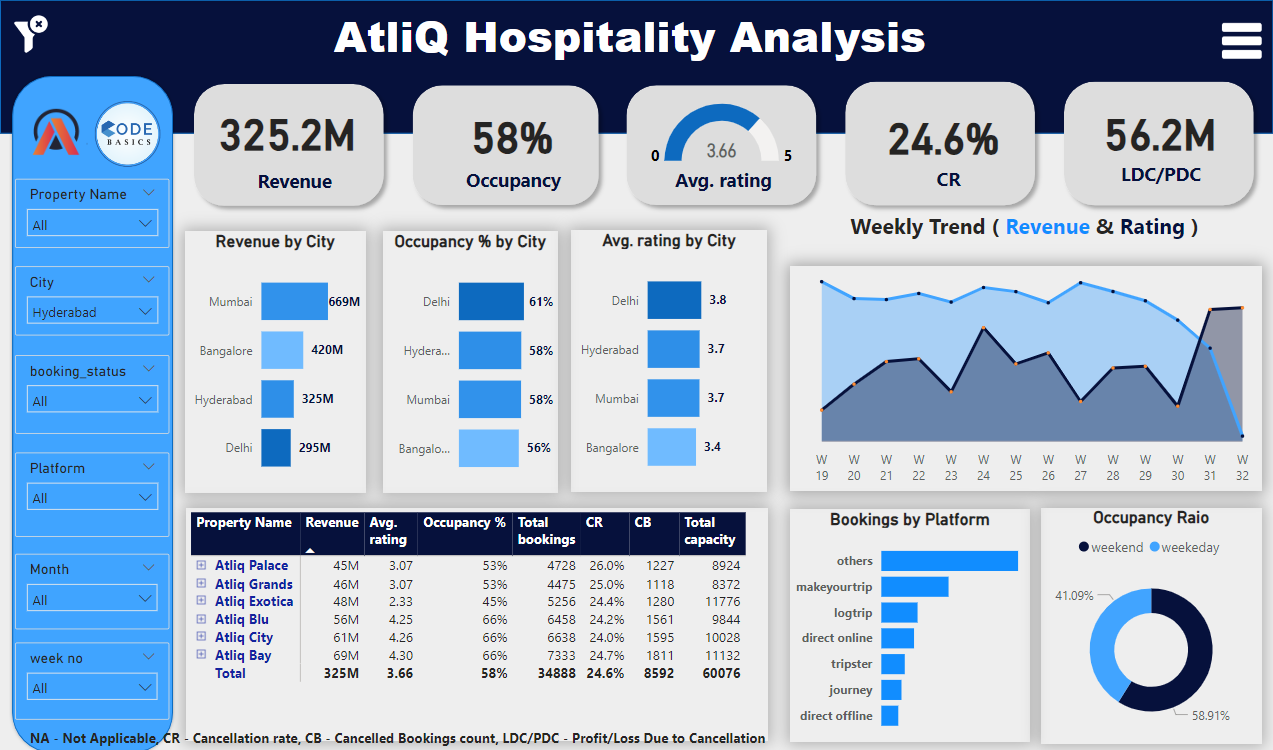

What the dashboard file says about the page in this screenshot:
{"tool":"powerbi","page":{"name":"Overall","canvas":[1280,760],"ordinal":0},"visuals":[{"type":"shape","box":[0,0,1280,134.4],"z":0},{"type":"textbox","box":[0,0,1280.6,79.1],"z":0,"group":"g1"},{"type":"group","id":"g1","title":"visuals","box":[0,0,1280.5,760.3],"z":1000},{"type":"shape","box":[1060.5,73.2,208.7,142.5],"z":1000,"group":"g1"},{"type":"shape","box":[840.9,73.2,208.7,142.5],"z":2000,"group":"g1"},{"type":"textbox","box":[443.5,163.2,145.1,44.5],"z":2000},{"type":"shape","box":[621.3,77.2,208.7,138.5],"z":3000,"group":"g1"},{"type":"textbox","box":[880.3,161.6,145.1,44.5],"z":3000},{"type":"shape","box":[405.5,77.2,204.9,138.5],"z":4000,"group":"g1"},{"type":"textbox","box":[1094.7,156.6,145.1,44.5],"z":4000},{"type":"textbox","box":[224.2,164.9,145.1,39.6],"z":5000},{"type":"clusteredBarChart","title":"Revenue by City","fields":{"Category":["dim_hotels.city"],"Y":["resource_measures.revenue"]},"box":[186.3,232.1,181.3,263],"z":5000,"group":"g1"},{"type":"card","fields":{"Values":["resource_measures.Occupancy %"]},"box":[455.3,100.9,119.5,67.3],"z":6000,"group":"g1"},{"type":"textbox","box":[654.5,163.2,145.1,44.5],"z":6000},{"type":"textbox","box":[802.3,207.8,456.5,48.5],"z":6500},{"type":"textbox","box":[24.7,727,1063.3,33],"z":6750},{"type":"clusteredBarChart","title":"Occupancy % by City","fields":{"Category":["dim_hotels.city"],"Y":["resource_measures.Occupancy %"]},"box":[384.9,232.6,176.7,263.6],"z":7000,"group":"g1"},{"type":"gauge","fields":{"MaxValue":["resource_measures.max.rating"],"MinValue":["resource_measures.min.rating"],"Y":["resource_measures.avg.rating mod"]},"box":[644.2,91.3,161.9,87.9],"z":8000,"group":"g1"},{"type":"clusteredBarChart","title":"Avg. rating by City","fields":{"Category":["dim_hotels.city"],"Y":["resource_measures.Avg. rating"]},"box":[574.8,230.8,196.6,263.6],"z":9000,"group":"g1"},{"type":"image","box":[7.6,4.5,47,57.6],"z":10000},{"type":"donutChart","title":"Occupancy Raio","fields":{"Category":["dim_date.day_type"],"Y":["resource_measures.Occupancy %"]},"box":[1047.3,509.9,221.3,237.7],"z":10000,"group":"g1"},{"type":"areaChart","title":"Weekly Trend (Revenue & Rating)","fields":{"Category":["dim_date.week no"],"Y2":["resource_measures.Avg. rating"],"Y":["resource_measures.revenue"]},"box":[794.7,267.8,474.1,226.6],"z":11000,"group":"g1"},{"type":"clusteredBarChart","title":"Bookings by Platform","fields":{"Category":["fact_bookings.booking_platform"],"Y":["resource_measures.Total bookings"]},"box":[794.5,511.6,241.2,234.3],"z":12000,"group":"g1"},{"type":"pivotTable","fields":{"Rows":["dim_hotels.property_name","dim_hotels.city"],"Values":["resource_measures.revenue","resource_measures.Avg. rating","resource_measures.Occupancy %","resource_measures.Total bookings","resource_measures.CR","resource_measures.Total cancelled bookings","resource_measures.Total capacity"]},"box":[186.7,509.9,584.7,234.3],"z":13000,"group":"g1"},{"type":"shape","box":[8.3,72.4,168.5,687.3],"z":14000,"group":"g1"},{"type":"slicer","fields":{"Values":["dim_date.week no"]},"box":[14.9,646,155.3,77.5],"z":15000,"group":"g1"},{"type":"slicer","fields":{"Values":["dim_date.mmm yy.Variation.Date Hierarchy.Month"]},"box":[14.9,556.4,155.3,75.8],"z":16000,"group":"g1"},{"type":"slicer","fields":{"Values":["fact_bookings.booking_platform"]},"box":[15.2,455.4,155.6,85.1],"z":17000,"group":"g1"},{"type":"slicer","fields":{"Values":["fact_bookings.booking_status"]},"box":[15.2,356.8,155.6,79.1],"z":18000,"group":"g1"},{"type":"slicer","fields":{"Values":["dim_hotels.city"]},"box":[15.2,268.2,155.6,69.2],"z":19000,"group":"g1"},{"type":"slicer","fields":{"Values":["dim_hotels.property_name"]},"box":[15.2,179.6,155.6,69.2],"z":20000,"group":"g1"},{"type":"card","fields":{"Values":["resource_measures.LDC"]},"box":[1090.8,91.3,150.3,77.5],"z":21000,"group":"g1"},{"type":"card","fields":{"Values":["resource_measures.CR"]},"box":[870.8,81.1,155.6,106.8],"z":22000,"group":"g1"},{"type":"shape","box":[185.9,75.2,208.7,140.5],"z":23000,"group":"g1"},{"type":"card","fields":{"Values":["resource_measures.revenue"]},"box":[207.1,91.3,163.5,77.5],"z":24000,"group":"g1"},{"type":"image","title":"atliq","box":[15.2,94.5,77.8,77.2],"z":25000,"group":"g1"},{"type":"image","title":"codebasics","box":[85.4,94.5,85.4,81.1],"z":26000,"group":"g1"},{"type":"image","title":"three dot menu","box":[1216.1,15.8,64.5,49.5],"z":27000,"group":"g1"}]}

Visuals, with their boxes in screenshot pixels (x1, y1, x2, y2), scaled from the page's 1280x760 canvas onto the 1273x750 screenshot:
shape: region(0, 0, 1272, 133)
textbox: region(0, 0, 1272, 78)
"visuals" group: region(0, 0, 1272, 749)
shape: region(1055, 72, 1262, 213)
shape: region(836, 72, 1044, 213)
textbox: region(441, 161, 585, 205)
shape: region(618, 76, 825, 213)
textbox: region(875, 159, 1020, 203)
shape: region(403, 76, 607, 213)
textbox: region(1089, 155, 1233, 198)
textbox: region(223, 163, 367, 202)
"Revenue by City" clusteredBarChart: region(185, 229, 366, 489)
card - resource_measures.Occupancy %: region(453, 100, 572, 166)
textbox: region(651, 161, 795, 205)
textbox: region(798, 205, 1252, 253)
textbox: region(25, 717, 1082, 749)
"Occupancy % by City" clusteredBarChart: region(383, 230, 559, 490)
gauge - resource_measures.max.rating x resource_measures.min.rating: region(641, 90, 802, 177)
"Avg. rating by City" clusteredBarChart: region(572, 228, 767, 488)
image: region(8, 4, 54, 61)
"Occupancy Raio" donutChart: region(1042, 503, 1262, 738)
"Weekly Trend (Revenue & Rating)" areaChart: region(790, 264, 1262, 488)
"Bookings by Platform" clusteredBarChart: region(790, 505, 1030, 736)
pivotTable - dim_hotels.property_name x dim_hotels.city: region(186, 503, 767, 734)
shape: region(8, 71, 176, 749)
slicer - dim_date.week no: region(15, 638, 169, 714)
slicer - dim_date.mmm yy.Variation.Date Hierarchy.Month: region(15, 549, 169, 624)
slicer - fact_bookings.booking_platform: region(15, 449, 170, 533)
slicer - fact_bookings.booking_status: region(15, 352, 170, 430)
slicer - dim_hotels.city: region(15, 265, 170, 333)
slicer - dim_hotels.property_name: region(15, 177, 170, 246)
card - resource_measures.LDC: region(1085, 90, 1234, 167)
card - resource_measures.CR: region(866, 80, 1021, 185)
shape: region(185, 74, 392, 213)
card - resource_measures.revenue: region(206, 90, 369, 167)
"atliq" image: region(15, 93, 92, 169)
"codebasics" image: region(85, 93, 170, 173)
"three dot menu" image: region(1209, 16, 1272, 64)
